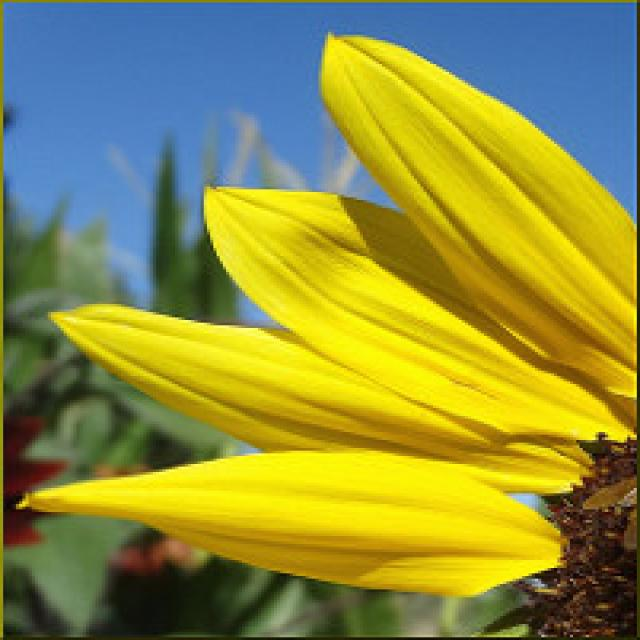sunflower: (35, 28, 640, 640)
